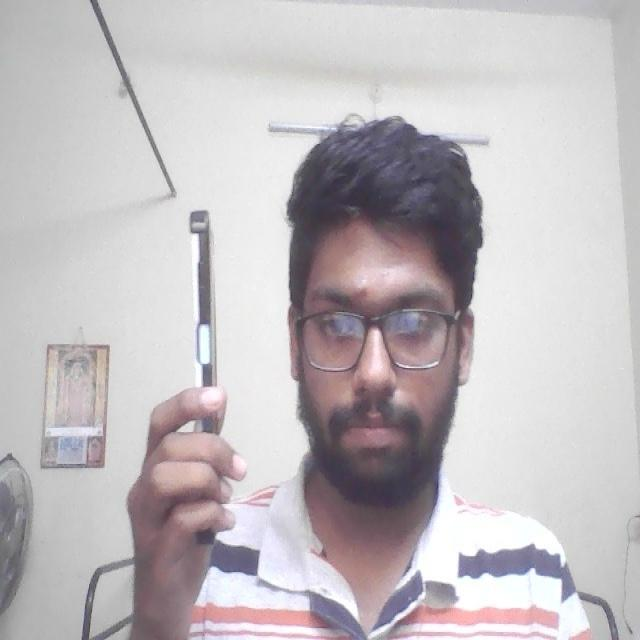Mobile: (185, 200, 227, 379)
